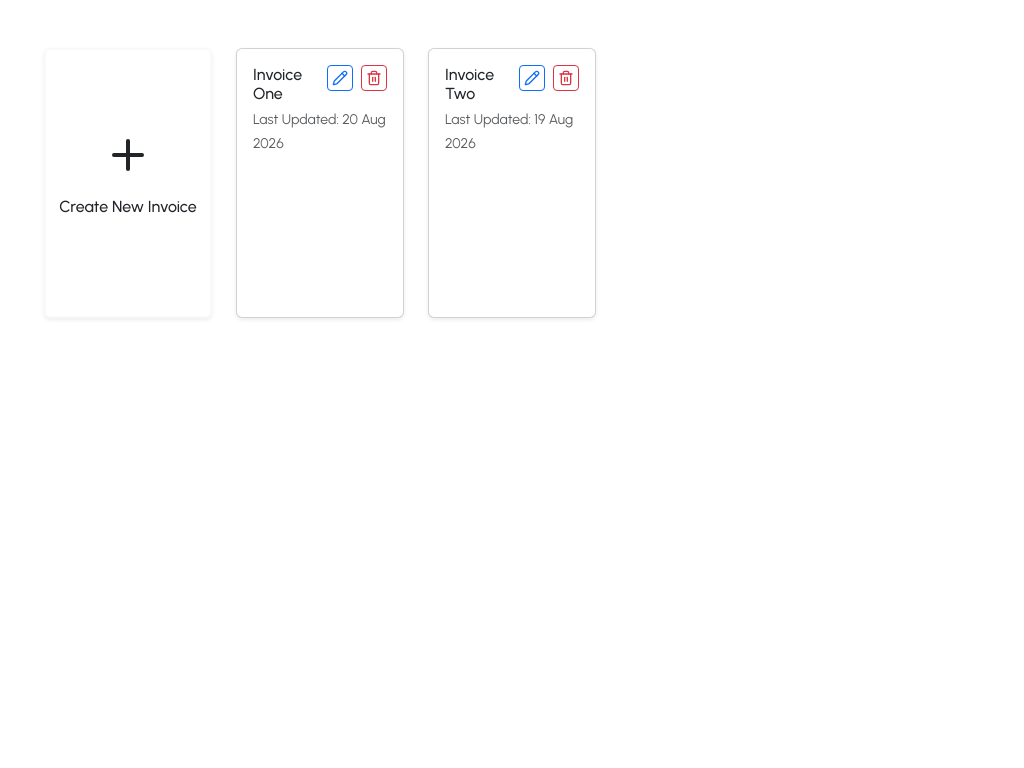
Scenario: Dashboard › shows confirmation modal and deletes invoice on confirm
Click the button named "Delete Invoice One": [374, 78] box [361,65,387,91]
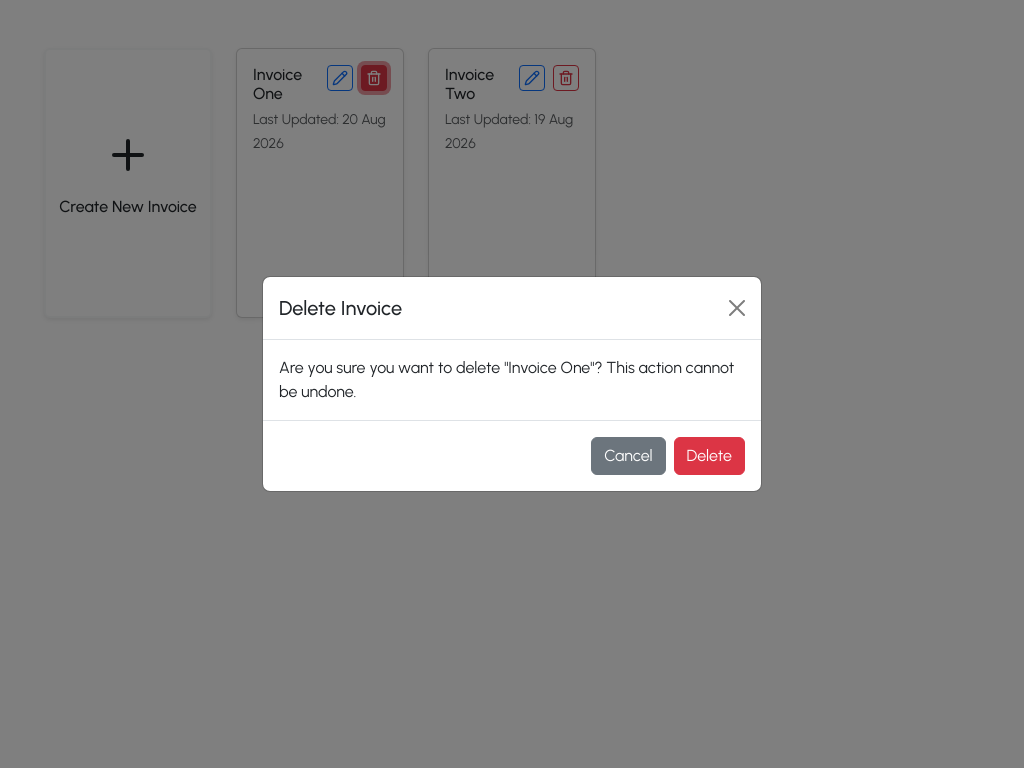
Expected: the text "Are you sure you want to delete \"Invoice One\"" is shown, [279,358,734,401]
Click the button "Delete": [709, 456] box [674,437,745,475]
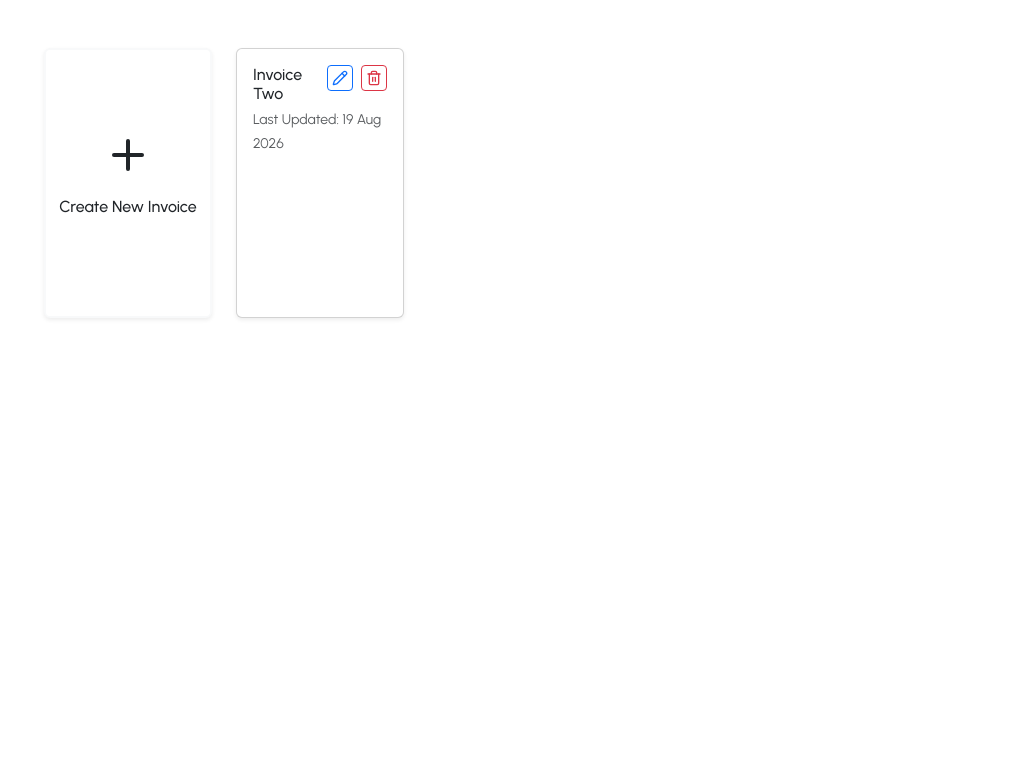
Expected: the heading "Invoice One" is gone
Expected: the heading "Invoice Two" is shown, [253,65,302,103]
